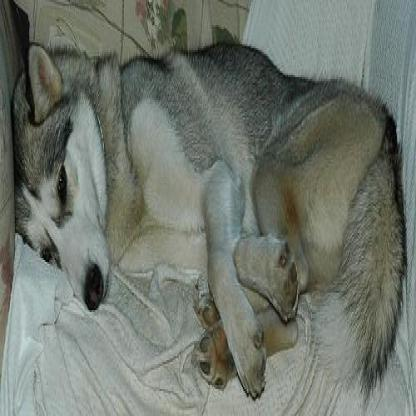Siberian_husky: (9, 32, 406, 396)
